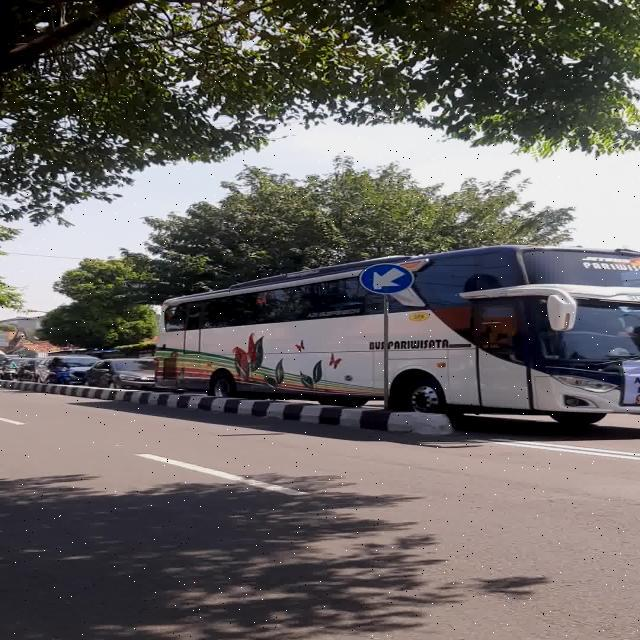Lajur Kiri: (358, 263, 414, 294)
